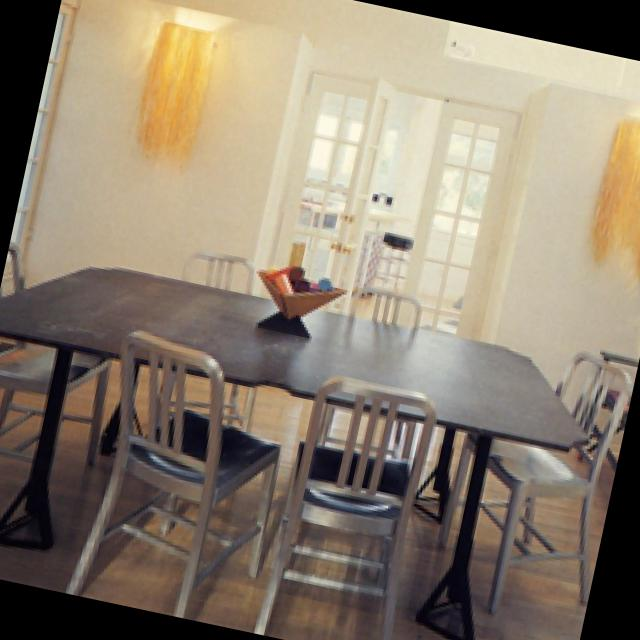2001: (397, 96, 515, 331), (263, 70, 376, 303), (2, 2, 80, 275)
bowl -X: (248, 264, 342, 339)
chair: (345, 281, 426, 330), (177, 247, 255, 293)
chair -occluded-: (58, 330, 281, 610), (432, 349, 631, 609), (250, 372, 440, 640), (0, 236, 107, 462)
door bars: (324, 71, 394, 311)
lamp crop: (131, 5, 224, 169), (593, 104, 640, 285)
stool crop: (366, 227, 410, 298)
table -X: (0, 262, 580, 440)
